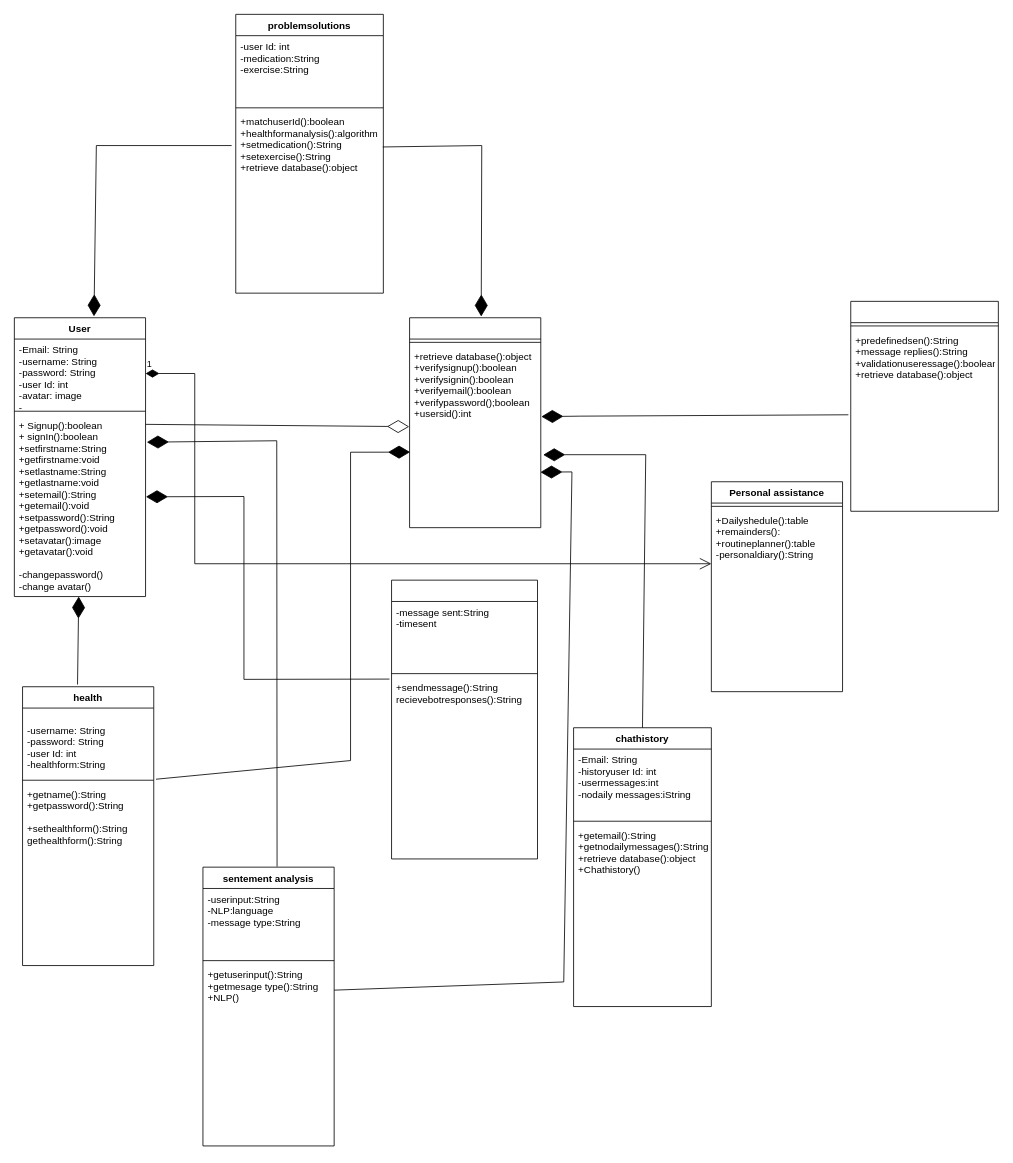
This 1013x1163 diagram has some shape labels left out. Each missing label, with the box of its shape:
bot traimimg: (850, 301, 998, 511)
chatbot System: (409, 317, 541, 528)
chats: (391, 579, 538, 859)
